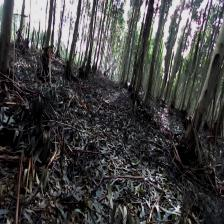trunk: (178, 26, 223, 158), (139, 10, 165, 107), (66, 6, 81, 71), (1, 0, 14, 71), (41, 4, 54, 58)
